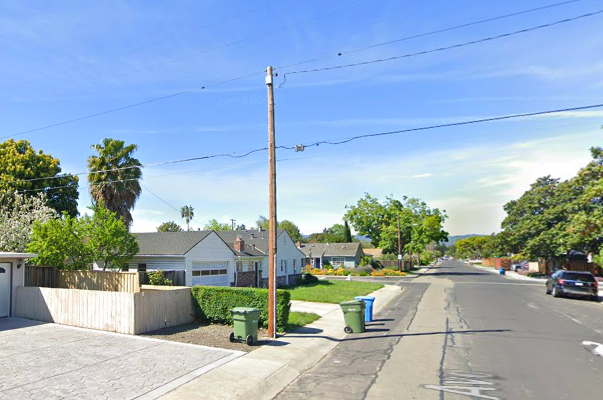tree: (500, 145, 603, 263), (24, 201, 140, 271), (342, 190, 450, 261)
utility_pole: (252, 54, 289, 122)
